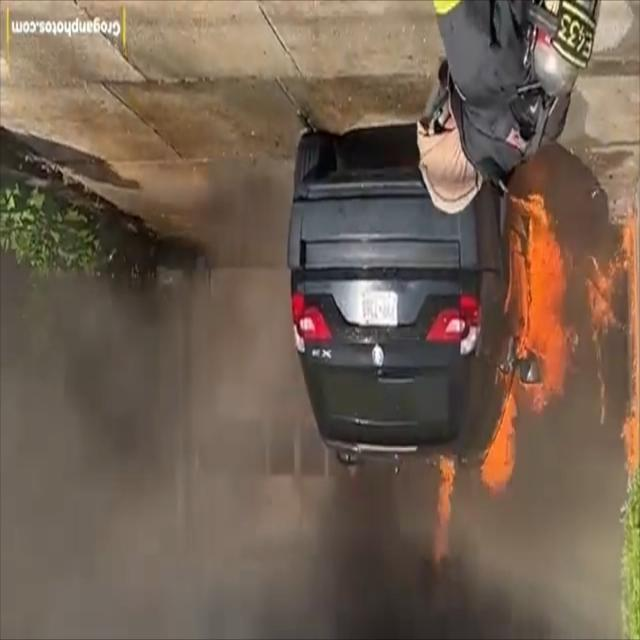fire: (427, 174, 637, 549)
